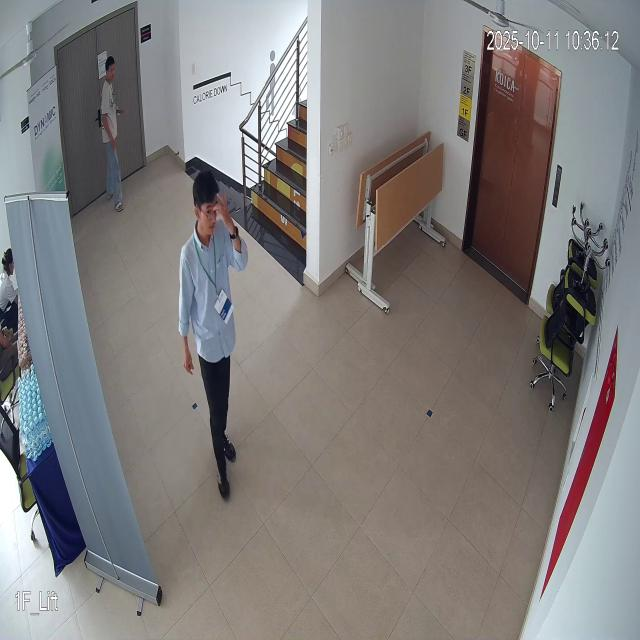face: (191, 162, 227, 241)
